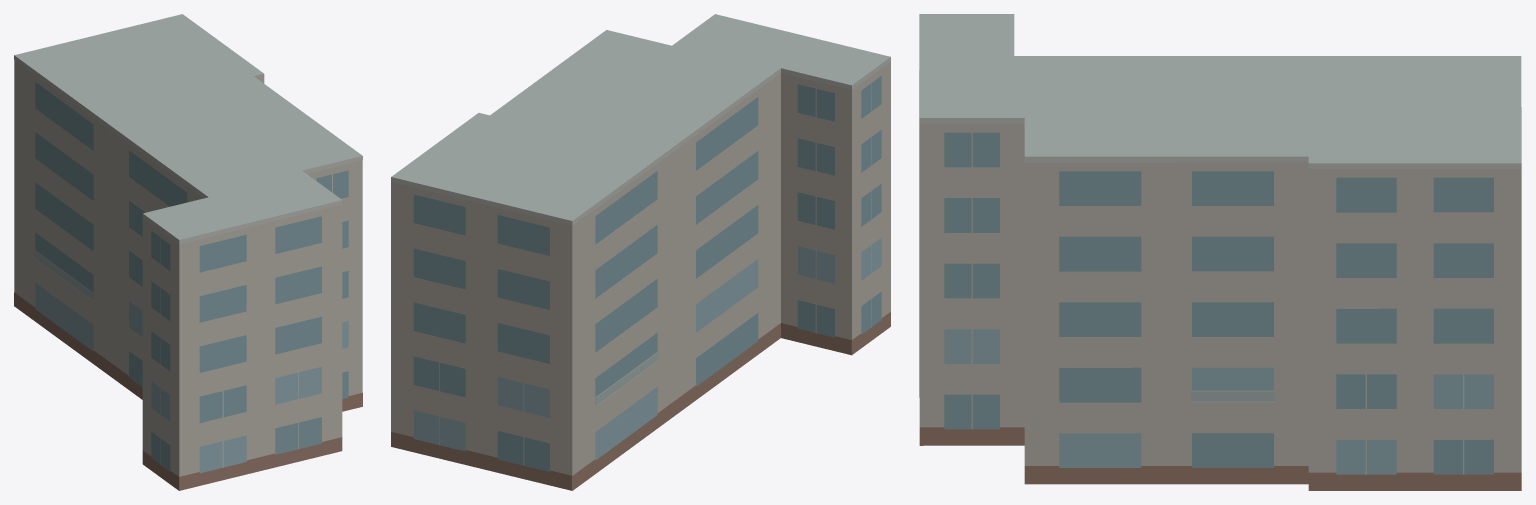
File: survey-upis-32612804.glb
3 renders of one model, left to right at view 1: azimuth 30°, elevation 25°; view 2: azimuth 150°, elevation 25°; view 3: azimuth 270°, elevation 25°, orthographic. The views are drawn at different scales.
Visible parts, largest first — view 1: survey-upis-32612804.tmp; view 2: survey-upis-32612804.tmp; view 3: survey-upis-32612804.tmp.
Part boxes in pixels (bbox=[...]): survey-upis-32612804.tmp: bbox=[14, 14, 362, 490]; survey-upis-32612804.tmp: bbox=[391, 14, 890, 490]; survey-upis-32612804.tmp: bbox=[919, 14, 1521, 490].
Bounding box in the file's own units: 13.5 × 13.8 × 23.01.
